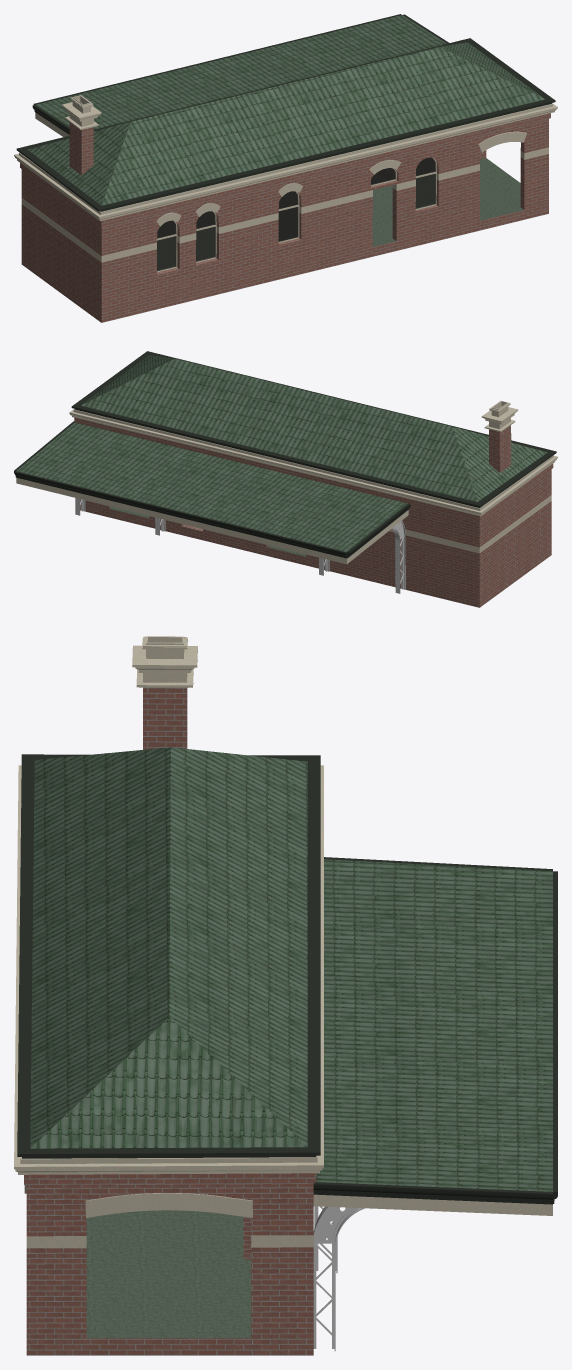
The model's file is StationBuilding-B.fbx.
3 views of the same model, one above another, from view 1: azimuth 30°, elevation 25°; view 2: azimuth 150°, elevation 25°; view 3: azimuth 270°, elevation 25° (orthographic). The views are drawn at different scales.
Parts seen in each view (by area): view 1: StationBuilding-B; view 2: StationBuilding-B; view 3: StationBuilding-B.
Part boxes in pixels (box(x1,y1,x2,y2)): StationBuilding-B: box(14, 14, 557, 322); StationBuilding-B: box(14, 351, 557, 607); StationBuilding-B: box(14, 636, 557, 1355).
Bounding box in the file's own units: 17.61 × 6.99 × 10.11.
